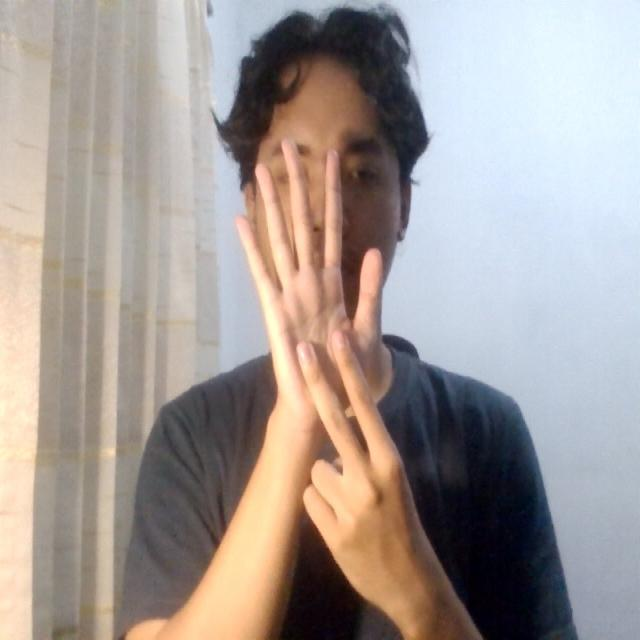IloveYou: (217, 126, 420, 534)
